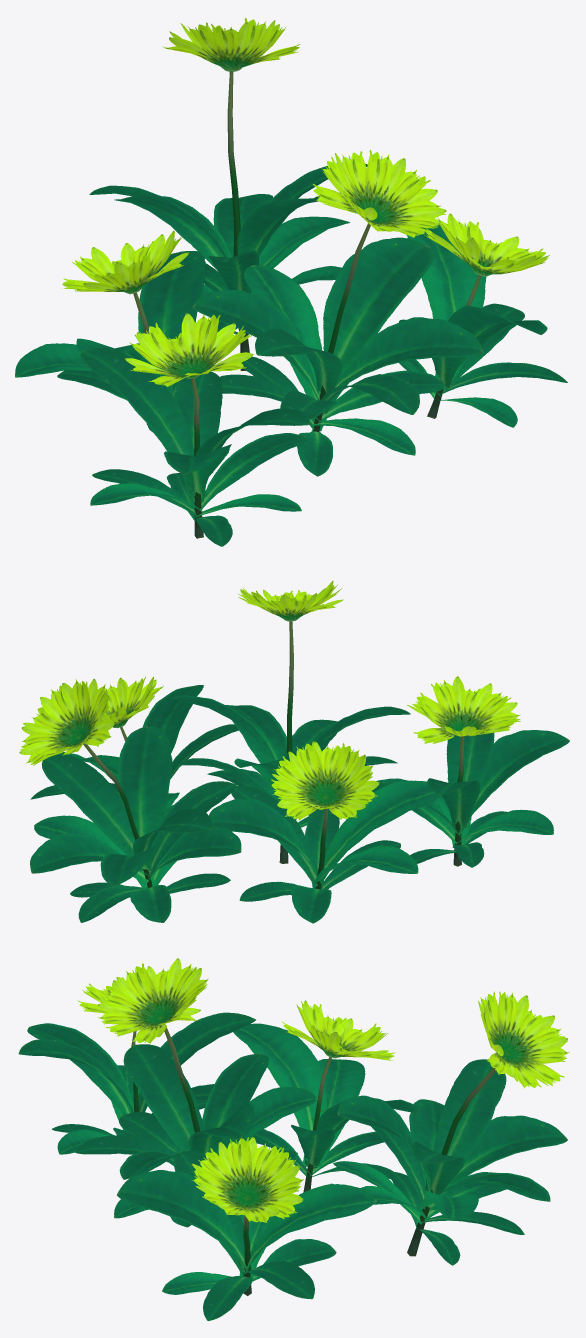
3 views of the same model, one above another, from view 1: azimuth 30°, elevation 25°; view 2: azimuth 150°, elevation 25°; view 3: azimuth 270°, elevation 25° (orthographic). The views are drawn at different scales.
Parts seen in each view (by area): view 1: SM_Gazania_03_LOD0; view 2: SM_Gazania_03_LOD0; view 3: SM_Gazania_03_LOD0.
Part boxes in pixels (x1,y1,x2,y2): SM_Gazania_03_LOD0: [15, 17, 567, 546]; SM_Gazania_03_LOD0: [19, 581, 569, 923]; SM_Gazania_03_LOD0: [18, 958, 569, 1321].
Size of the model in its own units: 0.5046 by 0.289 by 0.5251.
1 material, 1 textured.
